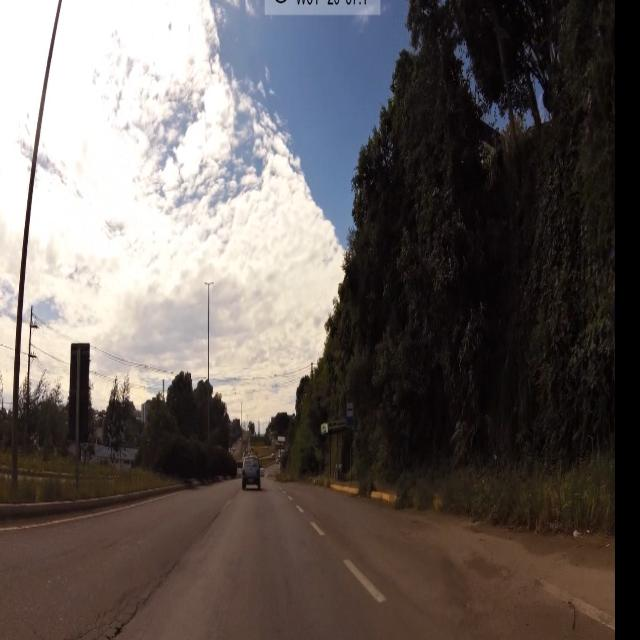S-14: (346, 396, 356, 428)
